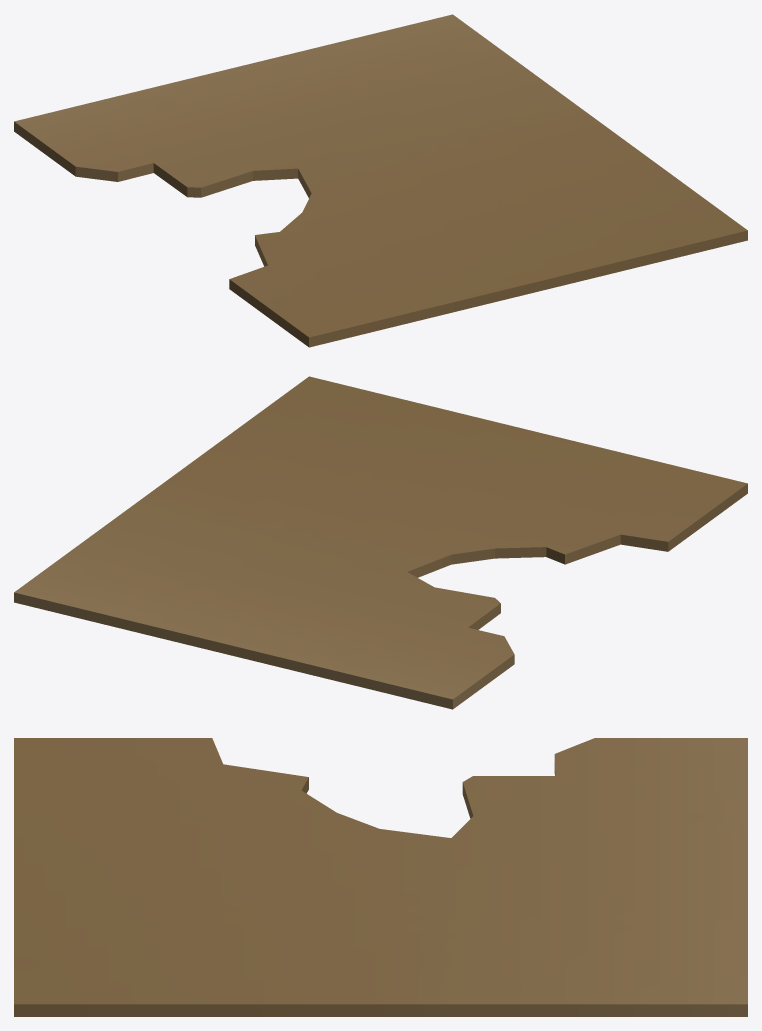
Rendered from carton 2.fbx.
3 renders of one model, top to bottom at view 1: azimuth 30°, elevation 25°; view 2: azimuth 150°, elevation 25°; view 3: azimuth 270°, elevation 25°, orthographic. The views are drawn at different scales.
Parts seen in each view (by area): view 1: carton 2; view 2: carton 2; view 3: carton 2.
Part boxes in pixels (<box>): carton 2: <box>14,14,747,347</box>; carton 2: <box>14,376,747,709</box>; carton 2: <box>14,738,747,1016</box>.
Bounding box in the file's own units: 40 × 46.6 × 0.8745.
